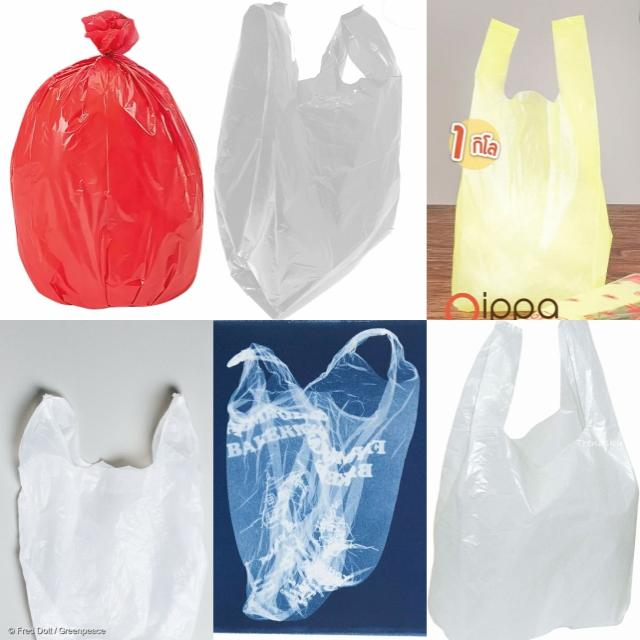Single-layer Plastic: (429, 321, 639, 638), (215, 4, 401, 317), (11, 11, 202, 308), (226, 329, 419, 621), (452, 16, 612, 305), (19, 395, 208, 639)
